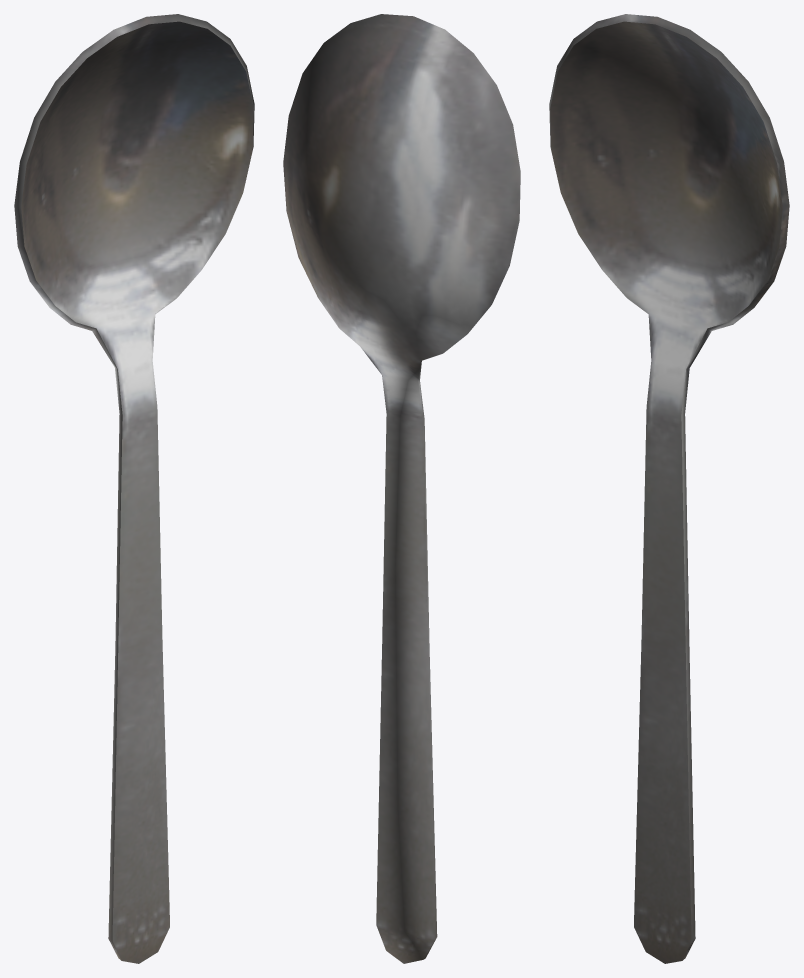
File: spoon.obj
The picture shows the model from 3 angles, left to right: view 1: azimuth 30°, elevation 25°; view 2: azimuth 150°, elevation 25°; view 3: azimuth 330°, elevation 25°; orthographic projection.
Parts seen in each view (by area): view 1: spoon_Circle.001; view 2: spoon_Circle.001; view 3: spoon_Circle.001.
Boxes of the visible parts, x1,y1,x2,y2 form: spoon_Circle.001: [14, 14, 254, 963]; spoon_Circle.001: [283, 14, 520, 963]; spoon_Circle.001: [549, 14, 789, 963].
Bounding box in the file's own units: 1.05 × 4.01 × 0.3239.
1 material, 1 textured.
